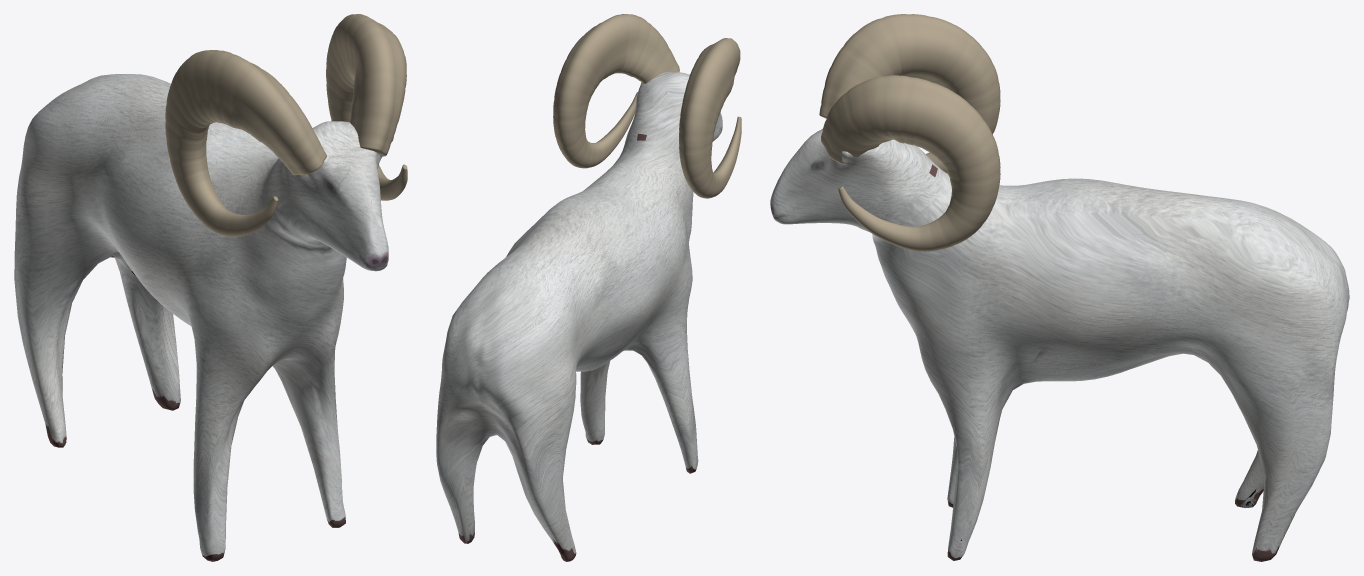
File: creature_cairn_bighorn.glb
3 renders of one model, left to right at view 1: azimuth 30°, elevation 25°; view 2: azimuth 150°, elevation 25°; view 3: azimuth 270°, elevation 25°, orthographic. The views are drawn at different scales.
Parts seen in each view (by area): view 1: p0ss_Sheep2_whole_body_bighorn_adaptation_rest_bake, Bighorn_horn_-1_rest_bake, Bighorn_horn_1_rest_bake; view 2: p0ss_Sheep2_whole_body_bighorn_adaptation_rest_bake, Bighorn_horn_1_rest_bake, Bighorn_horn_-1_rest_bake; view 3: p0ss_Sheep2_whole_body_bighorn_adaptation_rest_bake, Bighorn_horn_1_rest_bake, Bighorn_horn_-1_rest_bake.
Boxes of the visible parts, x1,y1,x2,y2 form: p0ss_Sheep2_whole_body_bighorn_adaptation_rest_bake: (14,74,393,561); Bighorn_horn_-1_rest_bake: (165,50,326,236); Bighorn_horn_1_rest_bake: (326,14,407,200); p0ss_Sheep2_whole_body_bighorn_adaptation_rest_bake: (436,72,722,561); Bighorn_horn_1_rest_bake: (553,14,679,168); Bighorn_horn_-1_rest_bake: (679,38,741,198); p0ss_Sheep2_whole_body_bighorn_adaptation_rest_bake: (770,128,1349,561); Bighorn_horn_1_rest_bake: (821,75,1000,251); Bighorn_horn_-1_rest_bake: (819,14,1000,173).
Size of the model in its own units: 0.4907 by 1.28 by 1.37.
2 materials, 1 textured.
